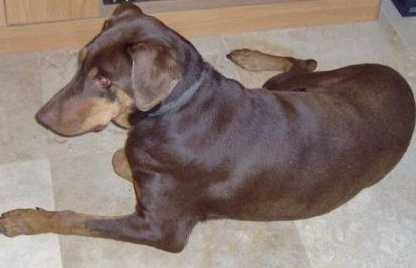dog: (25, 17, 416, 268)
